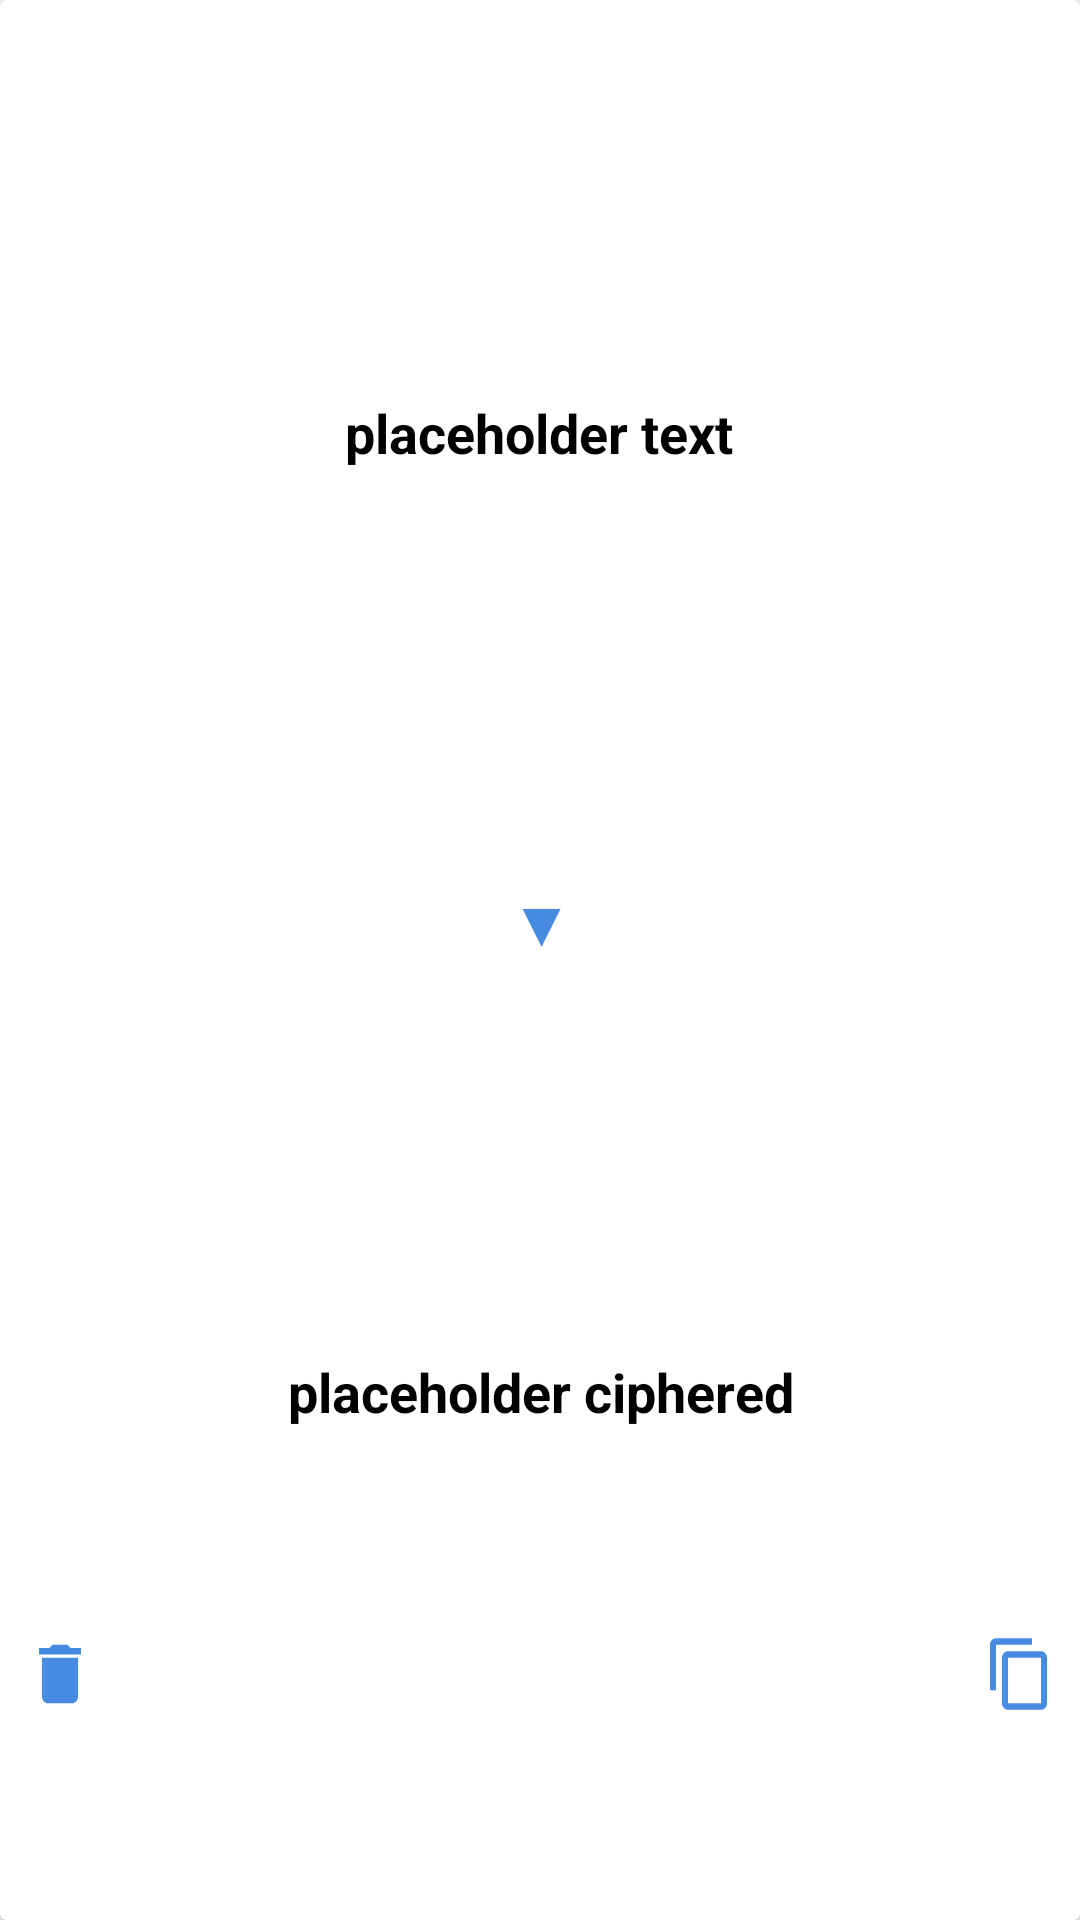

Screen size 1080w x 1920h. Icon name, then its box in pixels as (x1, y1, x2, y2):
delete: (39, 1644, 81, 1704)
